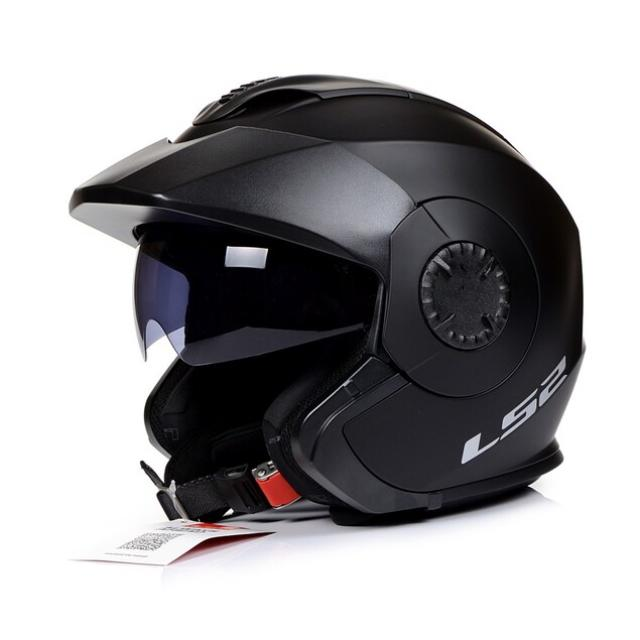Helmet: (61, 54, 592, 534)
